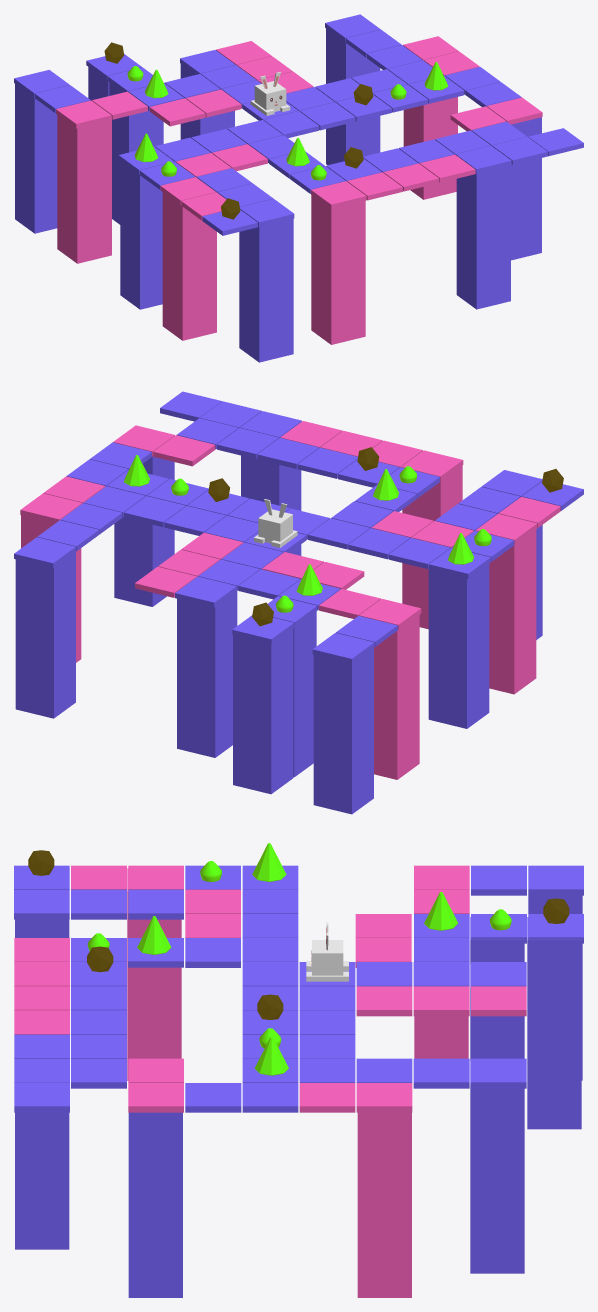
The picture shows the model from 3 angles, top to bottom: view 1: azimuth 30°, elevation 25°; view 2: azimuth 150°, elevation 25°; view 3: azimuth 270°, elevation 25°; orthographic projection. The views are drawn at different scales.
Parts seen in each view (by area): view 1: pillar_5, pillar_2, pillar, pillar_6, pillar_1, pillar_3, pillar_4, pillar_9, pillar_7, pillar_8, pillar_11, pillar_10 (+64 smaller); view 2: pillar_4, pillar_3, pillar_9, pillar_12, pillar_10, pillar_1, pillar_2, pillar_7, pillar_11, pillar_5, pillar_6, pillar_8 (+64 smaller); view 3: pillar_12, pillar_9, pillar_7, pillar_8, pillar_6, pillar_1, pillar_10, pillar_2, Cube_1_6, Cube_1_9, Cube_0_9, Cube_0 (+69 smaller).
Part boxes in pixels (x1,y1,x2,y2): pillar_5: [311, 195, 365, 344]; pillar_2: [57, 115, 111, 263]; pillar: [239, 218, 293, 362]; pillar_6: [456, 165, 510, 309]; pillar_1: [162, 192, 216, 340]; pillar_3: [15, 84, 57, 233]; pillar_4: [120, 161, 162, 309]; pillar_9: [326, 28, 380, 164]; pillar_7: [511, 117, 541, 260]; pillar_8: [403, 97, 457, 199]; pillar_11: [109, 82, 163, 224]; pillar_10: [180, 61, 234, 139]; pillar_4: [428, 564, 489, 728]; pillar_3: [313, 648, 373, 814]; pillar_9: [15, 552, 75, 718]; pillar_12: [233, 629, 293, 794]; pillar_10: [177, 588, 237, 757]; pillar_1: [489, 529, 536, 694]; pillar_2: [374, 615, 419, 779]; pillar_7: [114, 456, 174, 606]; pillar_11: [293, 611, 316, 777]; pillar_5: [402, 465, 462, 629]; pillar_6: [241, 455, 301, 555]; pillar_8: [21, 515, 81, 662]; pillar_12: [527, 917, 581, 1129]; pillar_9: [470, 1061, 524, 1273]; pillar_7: [128, 1112, 182, 1297]; pillar_8: [357, 1112, 411, 1297]; pillar_6: [15, 1112, 69, 1249]; pillar_1: [127, 868, 181, 1080]; pillar_10: [470, 964, 524, 1061]; pillar_2: [414, 1016, 468, 1058]; Cube_1_6: [413, 1058, 469, 1088]; Cube_1_9: [413, 986, 469, 1016]; Cube_0_9: [356, 986, 412, 1016]; Cube_0: [14, 889, 69, 919].
Size of the model in its own units: 818 by 375 by 818.
